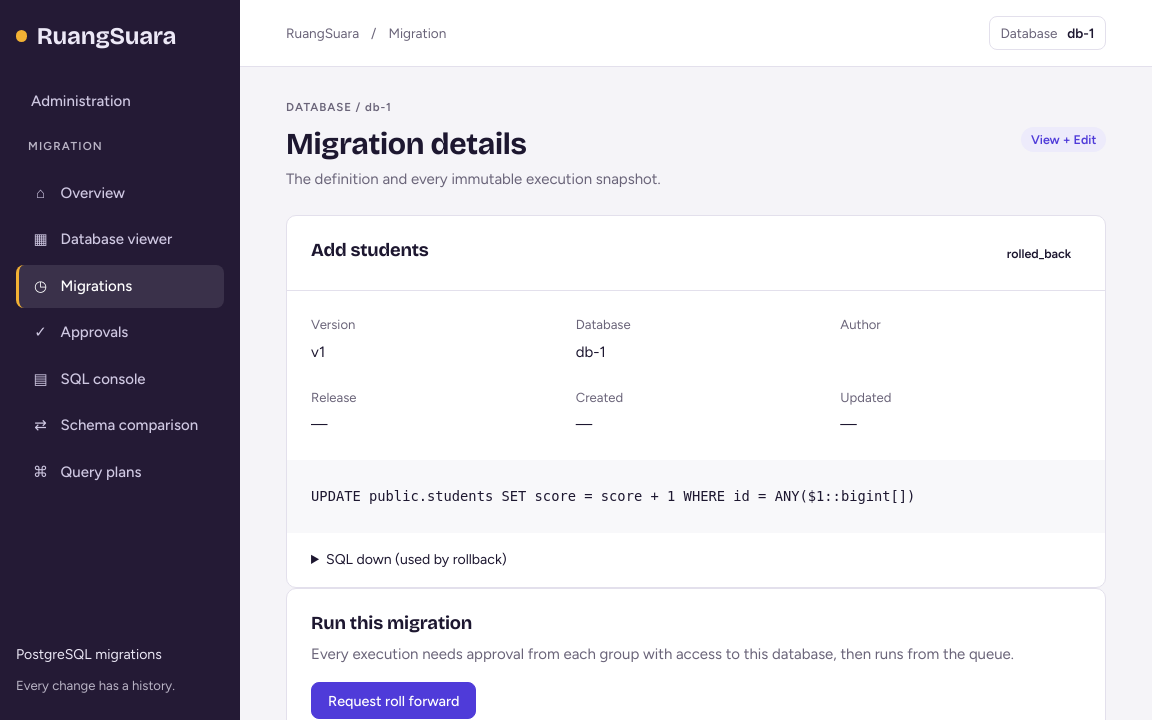
Scenario: Asynchronous migration submission › submits a rolled_back migration using forward and opens its job
Click the button "Request roll forward" at (394, 701), box [311,682,476,719]
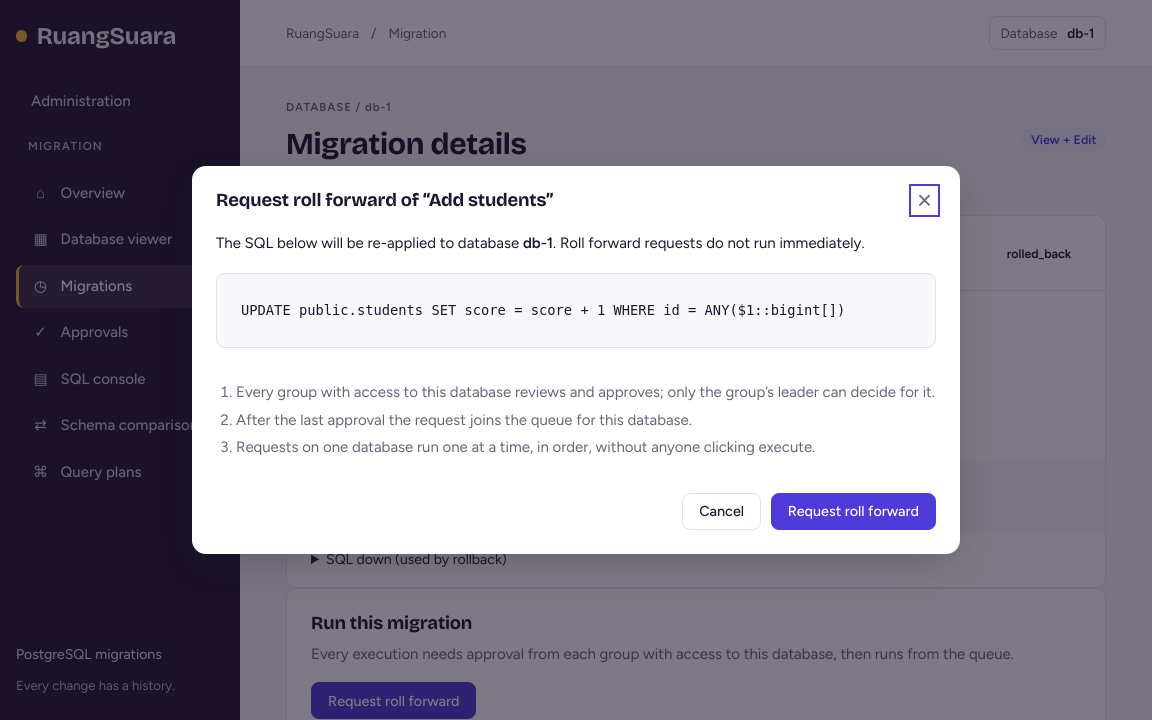
Click the button "Request roll forward" at (853, 511), box [771,493,936,530]
(page scrolled)
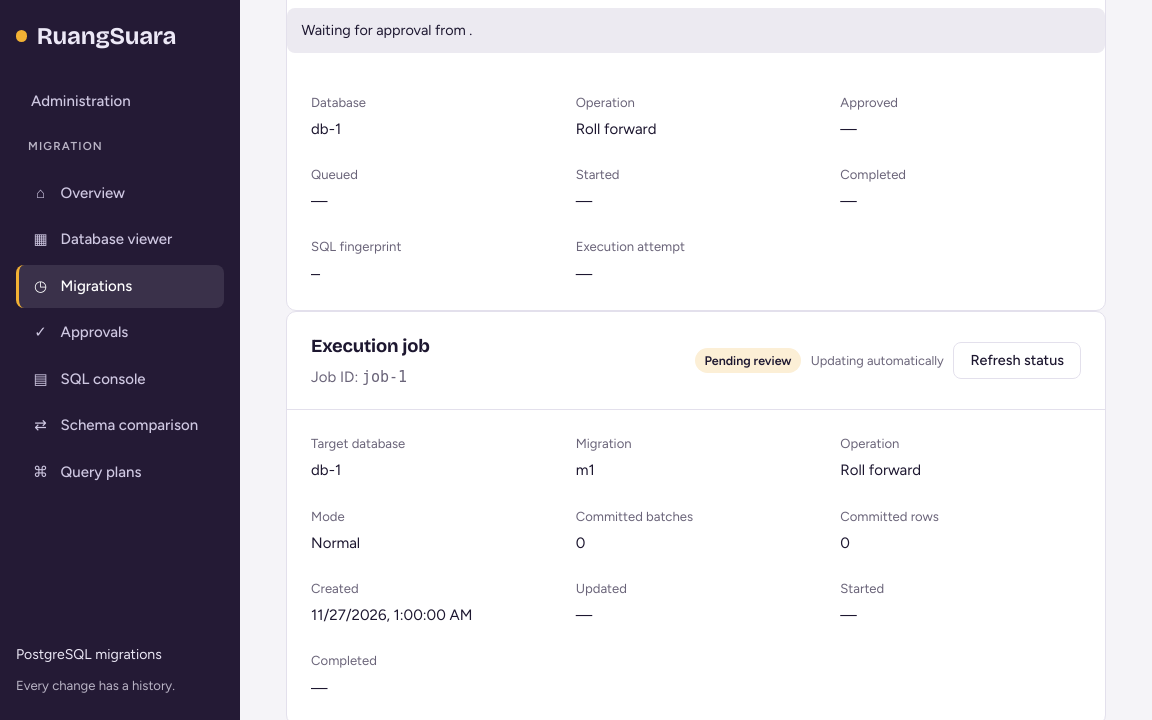
Result: the heading "Execution job" is shown at [311,332,430,360]
Result: the text "job-1" is shown at [362,368,407,386]
Result: the text "Pending review" is shown at [695,348,801,372]
